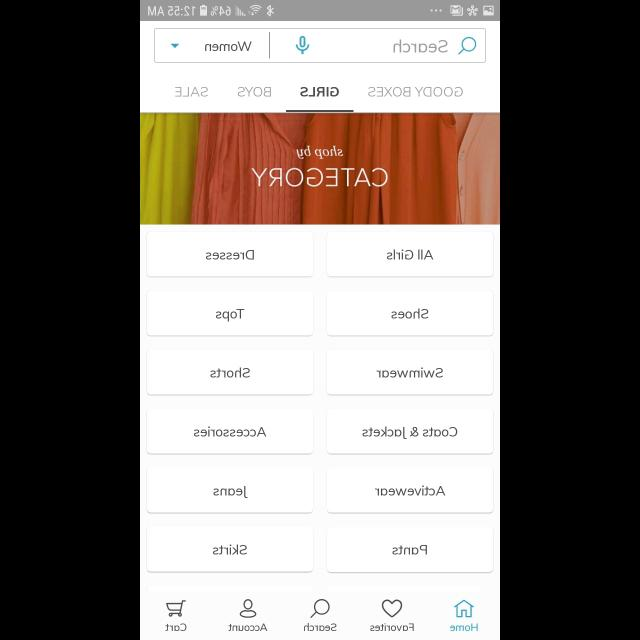icon: (454, 599, 474, 617), (382, 600, 402, 618), (310, 600, 330, 618), (458, 37, 476, 55), (240, 598, 256, 618), (166, 600, 186, 616), (295, 37, 309, 55), (170, 44, 180, 48)
image: (140, 113, 500, 224)
input: (154, 28, 486, 64)
text: (252, 168, 388, 188), (368, 87, 462, 97), (296, 146, 344, 160), (393, 40, 447, 52), (205, 41, 251, 51), (370, 623, 414, 631), (228, 624, 268, 632), (300, 88, 338, 96), (238, 88, 270, 96), (176, 88, 208, 96), (304, 623, 336, 631), (450, 624, 478, 632), (166, 624, 187, 632)
textbutton: (326, 526, 494, 574), (146, 408, 314, 456), (326, 466, 494, 514), (146, 526, 314, 572), (146, 231, 314, 277), (146, 290, 314, 336), (146, 349, 314, 395), (146, 467, 314, 513), (326, 408, 494, 454), (326, 349, 494, 395), (326, 290, 494, 336), (326, 231, 494, 277)
uppertaskbar: (140, 1, 500, 22)
